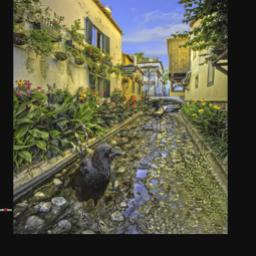Crow: (64, 143, 122, 231)
